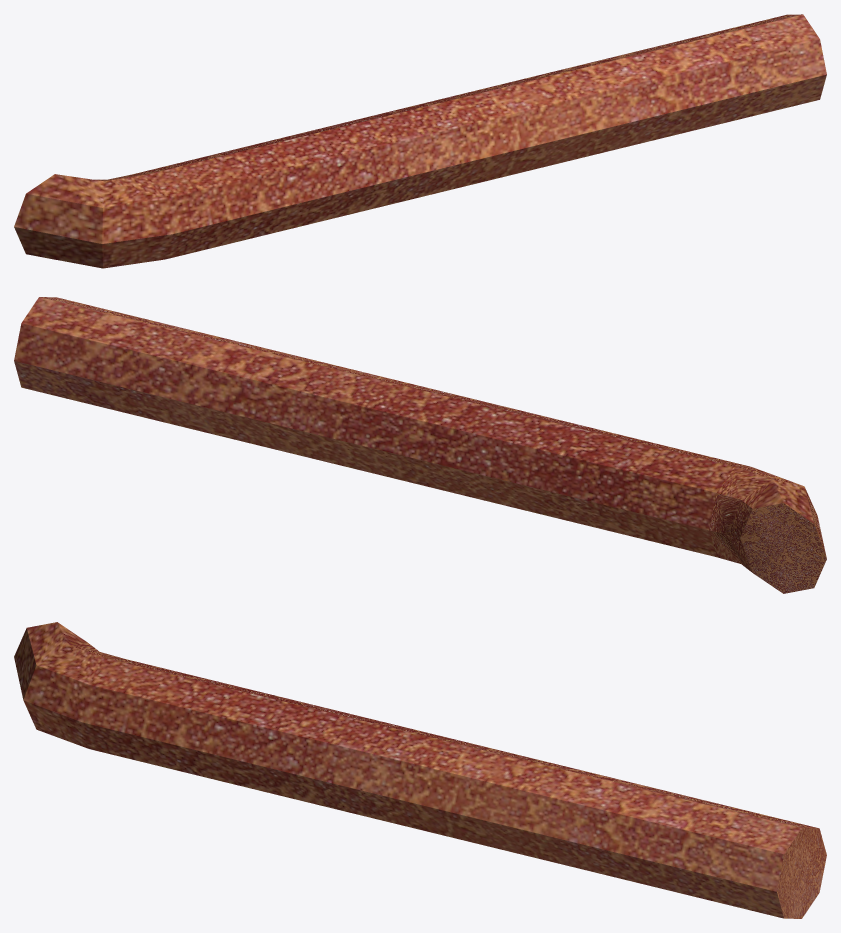
File: Pipe.fbx
The picture shows the model from 3 angles, top to bottom: view 1: azimuth 30°, elevation 25°; view 2: azimuth 150°, elevation 25°; view 3: azimuth 330°, elevation 25°; orthographic projection. The views are drawn at different scales.
Parts seen in each view (by area): view 1: pCylinder1; view 2: pCylinder1; view 3: pCylinder1.
Part boxes in pixels (left/top/right/bottom): pCylinder1: left=14, top=14, right=826, bottom=268; pCylinder1: left=14, top=297, right=826, bottom=593; pCylinder1: left=14, top=622, right=826, bottom=918.
Bounding box in the file's own units: 4.68 × 0.5 × 0.5.
